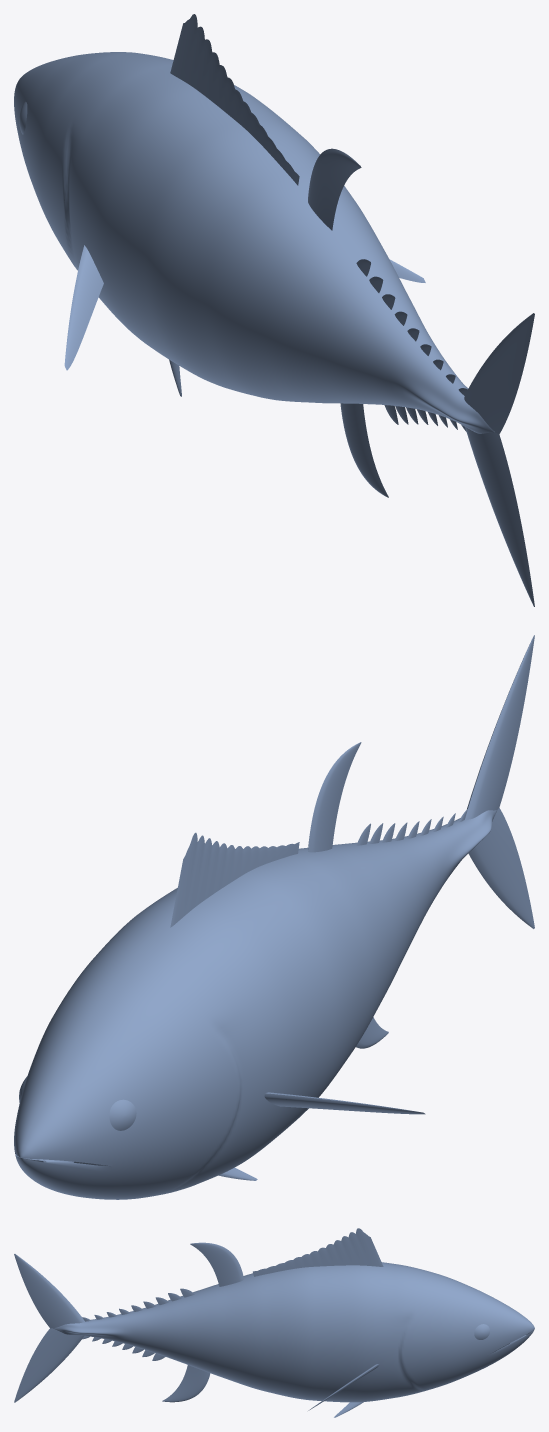
The model's file is bluefin_tuna.glb.
3 views of the same model, one above another, from view 1: azimuth 30°, elevation 25°; view 2: azimuth 150°, elevation 25°; view 3: azimuth 270°, elevation 25° (orthographic). The views are drawn at different scales.
Parts seen in each view (by area): view 1: bluefin_tuna; view 2: bluefin_tuna; view 3: bluefin_tuna.
Part boxes in pixels (x1,y1,x2,y2): bluefin_tuna: (14,14,534,606); bluefin_tuna: (14,635,534,1199); bluefin_tuna: (14,1228,534,1417).
Bounding box in the file's own units: 1.01 × 0.9538 × 2.5.
